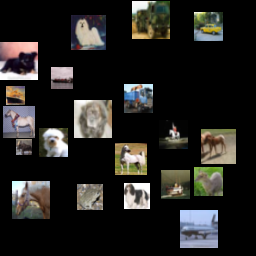airplane: (98, 216, 130, 248), (22, 65, 51, 94)
automobile: (188, 201, 226, 239), (70, 10, 108, 48), (206, 125, 238, 157), (5, 105, 37, 137), (150, 108, 172, 130)
bird: (9, 4, 47, 42), (75, 89, 107, 121), (50, 186, 69, 205)
cat: (163, 62, 201, 100)
dog: (162, 153, 181, 172)
ship: (59, 209, 88, 238), (196, 31, 222, 57), (37, 153, 63, 179)
